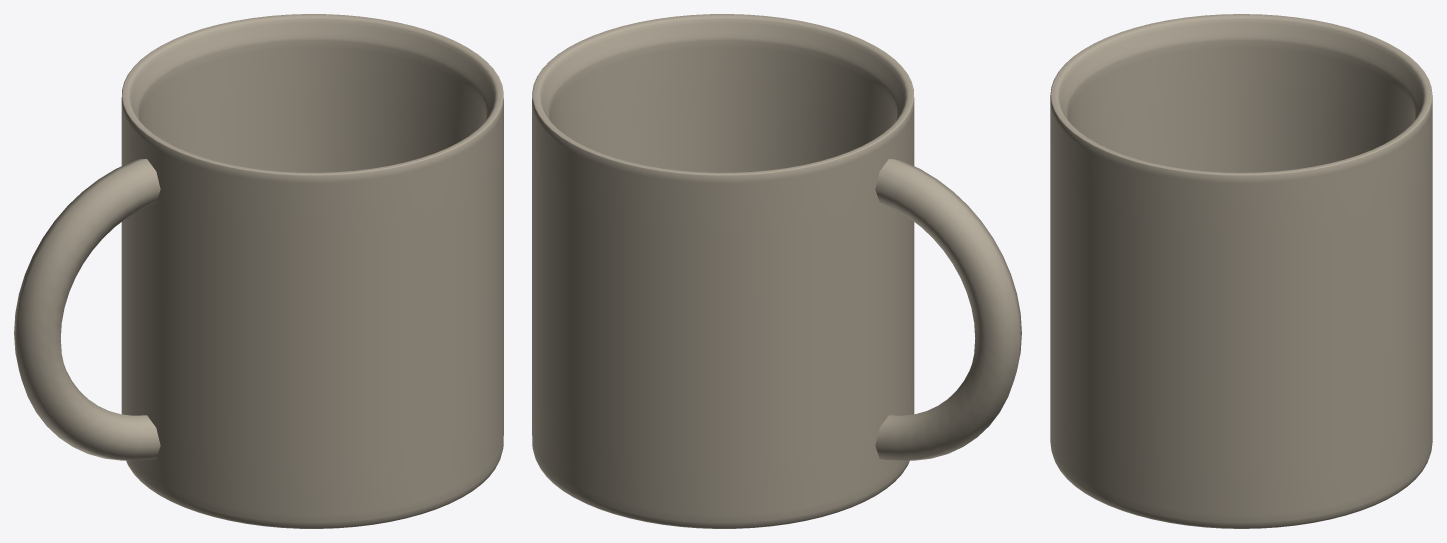
File: Mug.fbx
3 renders of one model, left to right at view 1: azimuth 30°, elevation 25°; view 2: azimuth 150°, elevation 25°; view 3: azimuth 270°, elevation 25°, orthographic.
Visible parts, largest first — view 1: Mug, Handle; view 2: Mug, Handle; view 3: Mug.
Part boxes in pixels (x1=…): Mug: x1=121, y1=14, x2=503, y2=528; Handle: x1=14, y1=159, x2=160, y2=460; Mug: x1=532, y1=14, x2=914, y2=528; Handle: x1=875, y1=159, x2=1021, y2=460; Mug: x1=1050, y1=14, x2=1432, y2=528.
Size of the model in its own units: 111 by 81.67 by 79.48.
